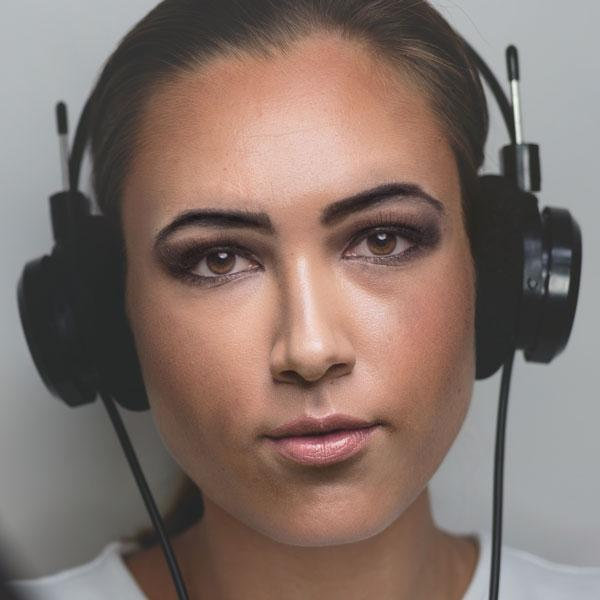Eyes: (326, 208, 446, 281), (159, 229, 275, 298)
